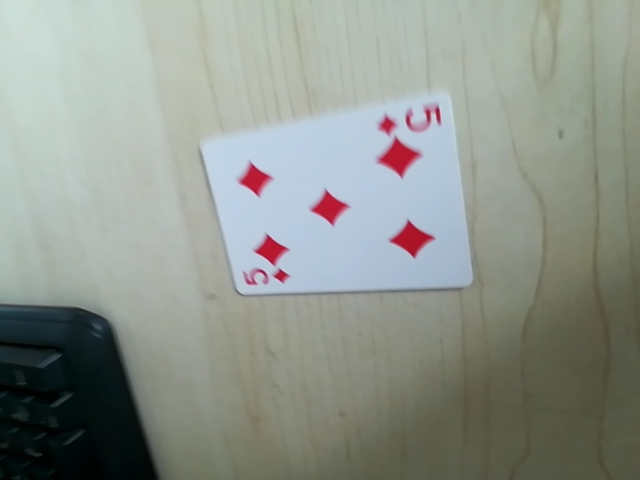fk 5: (374, 97, 447, 139), (242, 264, 294, 294)
